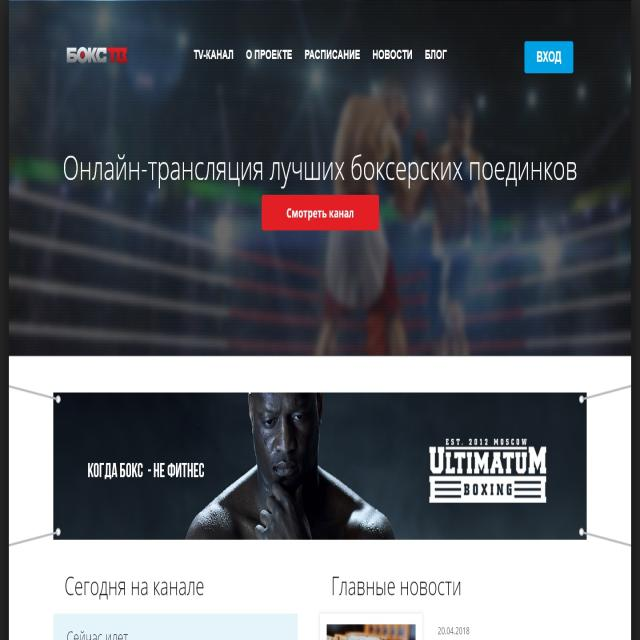button: (263, 192, 380, 233), (296, 35, 365, 71), (366, 34, 416, 70), (241, 36, 296, 68), (188, 38, 239, 68), (526, 42, 573, 74), (416, 34, 449, 70)
heading: (57, 148, 579, 192), (417, 428, 559, 509), (62, 569, 210, 610), (330, 572, 464, 613), (63, 40, 132, 70)
image: (7, 0, 631, 353), (54, 389, 587, 542)
text: (85, 452, 209, 487)
